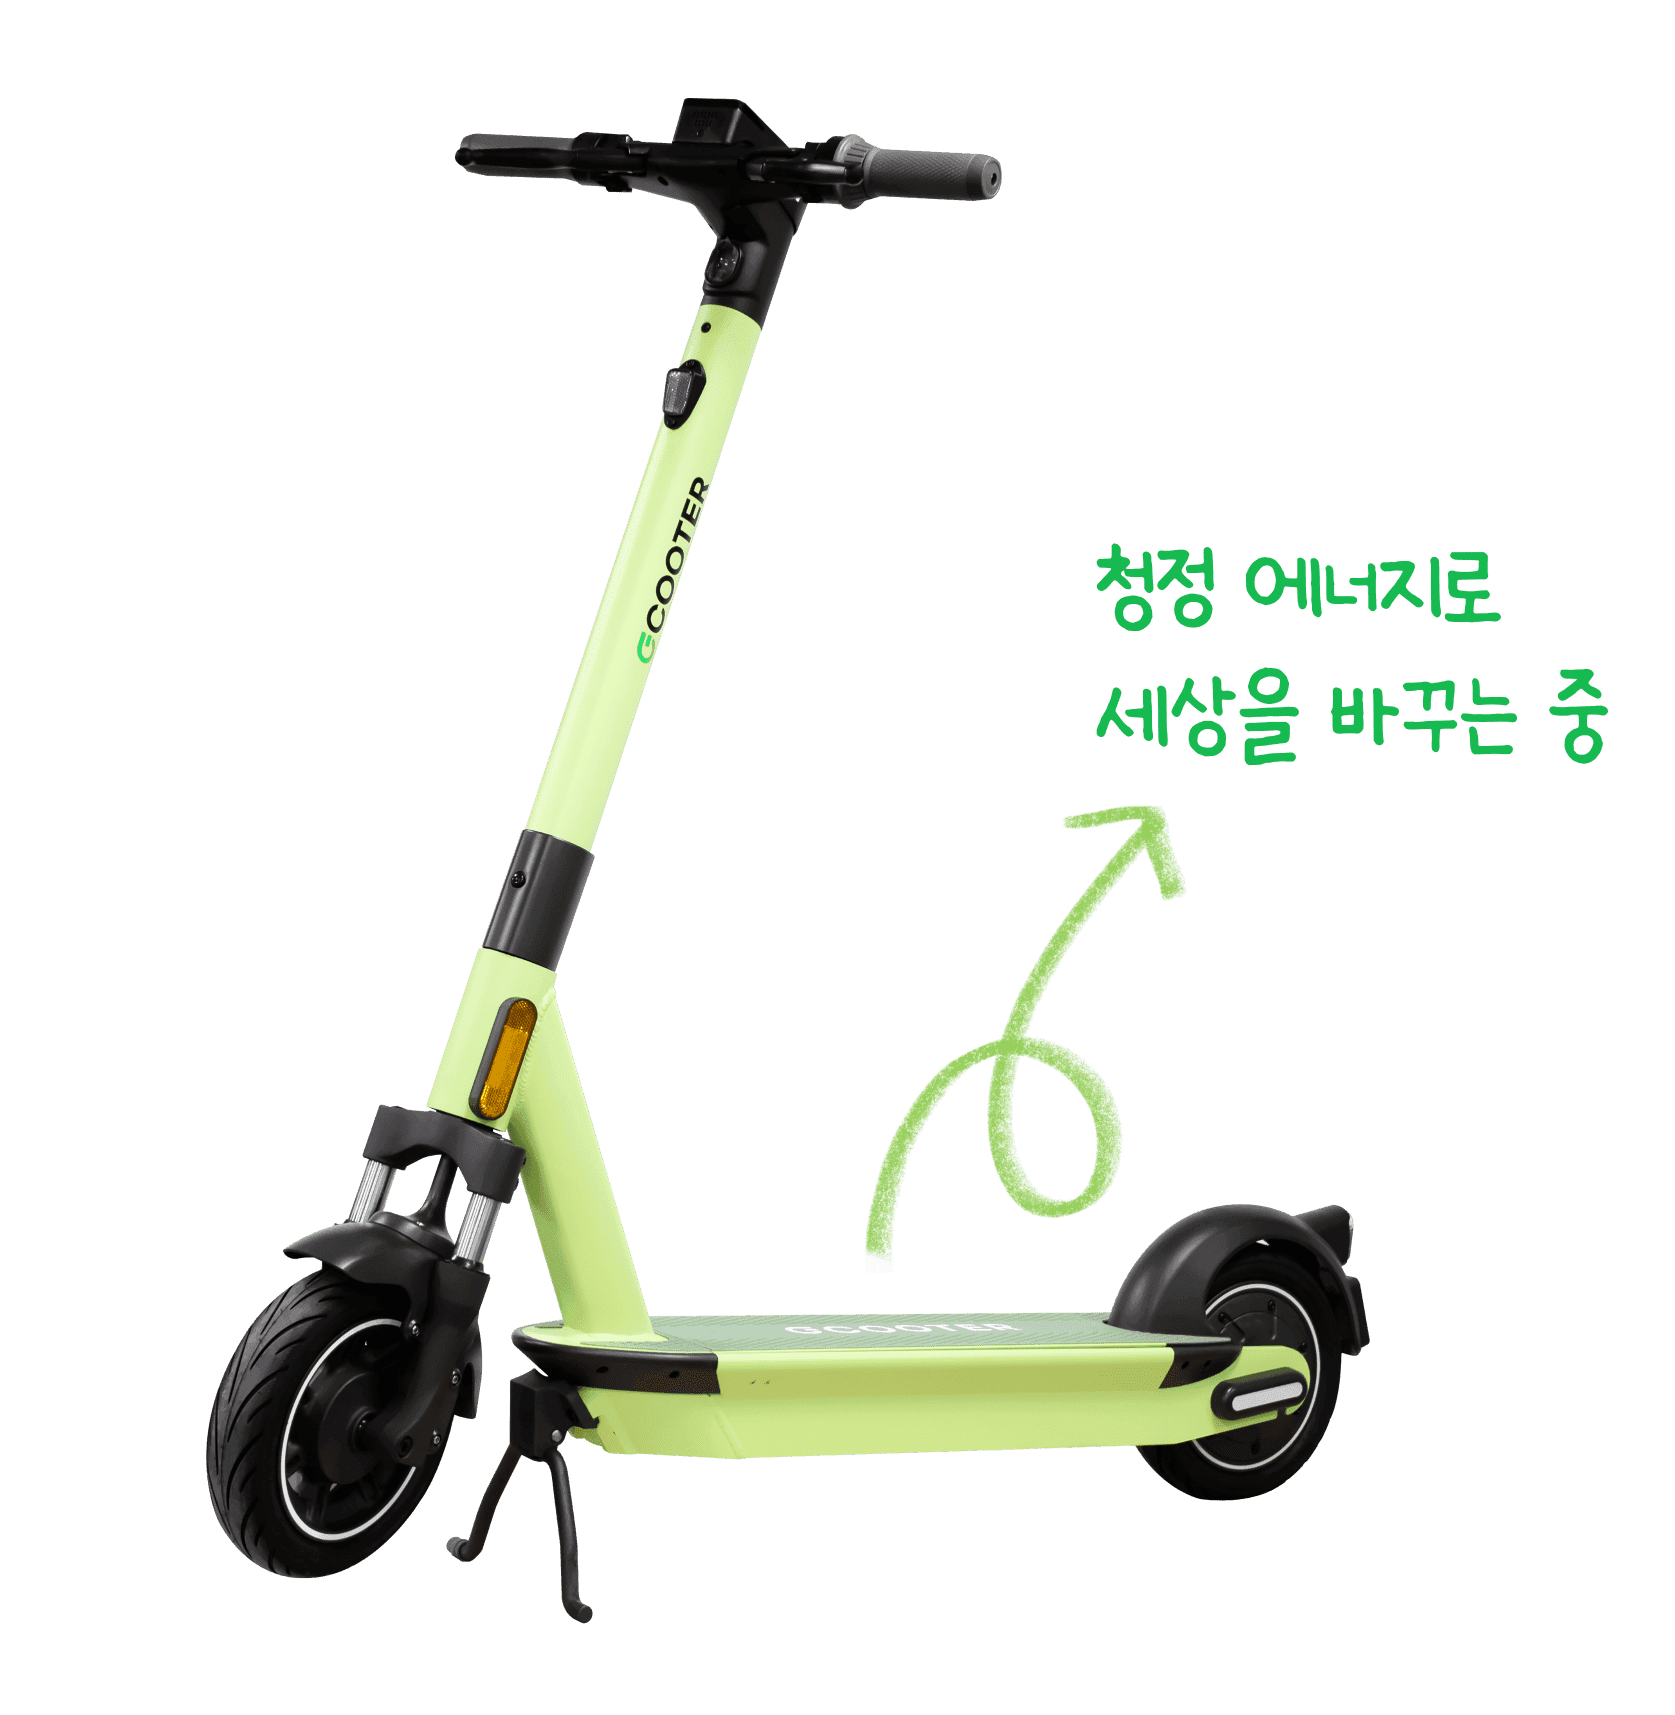kick_body: (647, 1315, 1144, 1440)
kick_handler: (452, 97, 1005, 301)
kick_neck: (420, 316, 761, 1111)
kick_wheel: (207, 1246, 482, 1577), (1137, 1213, 1367, 1503)
